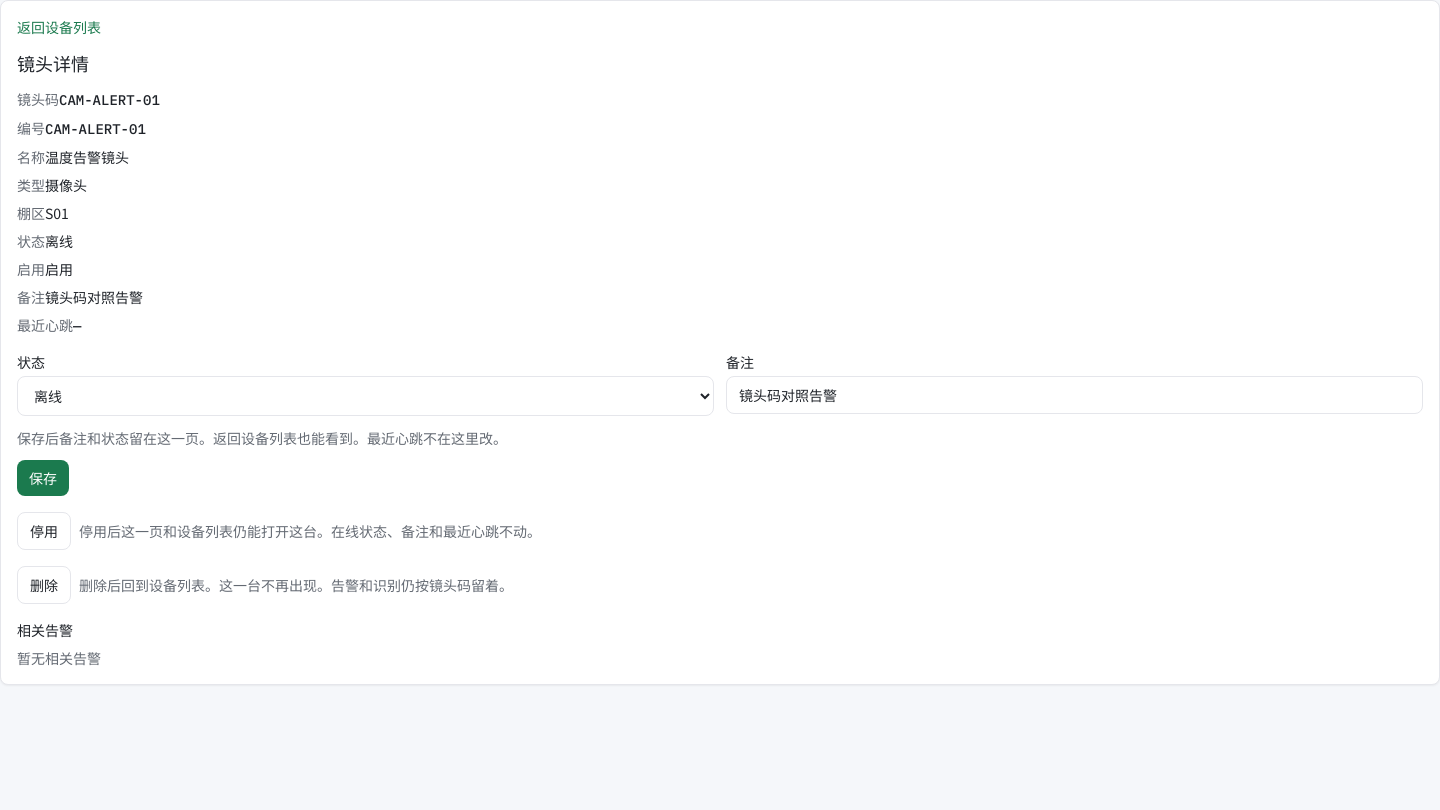
DeviceDetailView › deactivates the camera and keeps the detail reachable
Expected: the 2nd text "启用" is shown, 45,259 -> 73,279
Click the button with test id "device-enabled" at (44, 531), box 17,512 -> 71,550
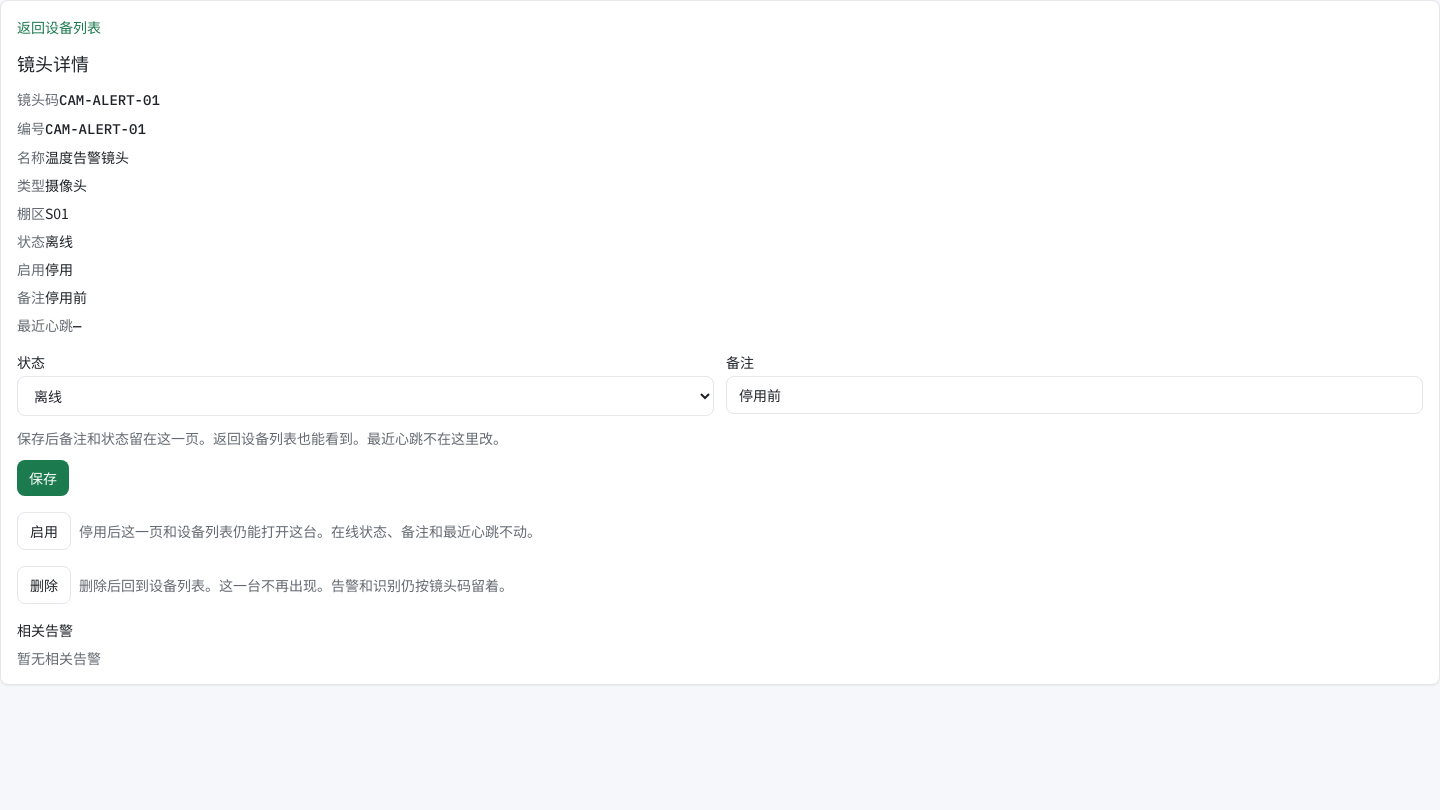
Expected: the text "停用" is shown, 45,259 -> 73,279
Expected: the text "停用前" is shown, 45,287 -> 87,307
Expected: the button with test id "device-enabled" reads "启用", 17,512 -> 71,550
